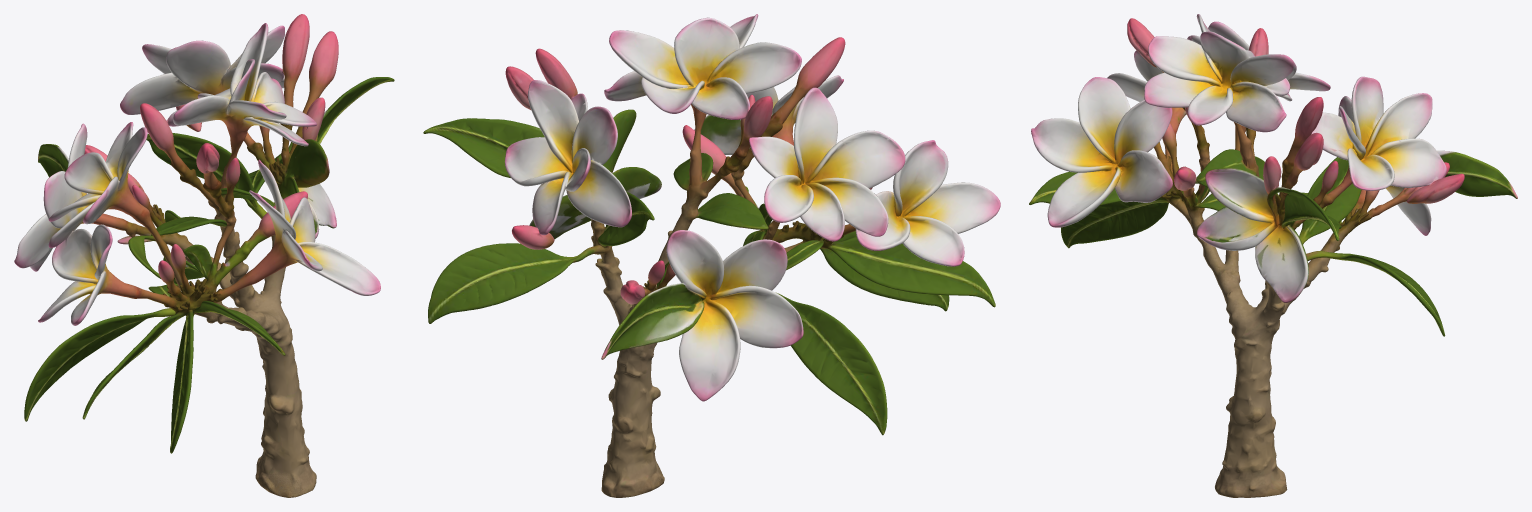
File: Plumeria.glb
The picture shows the model from 3 angles, left to right: view 1: azimuth 30°, elevation 25°; view 2: azimuth 150°, elevation 25°; view 3: azimuth 270°, elevation 25°; orthographic projection. The views are drawn at different scales.
Visible parts, largest first — view 1: tripo_node_3d0621f8-8f91-45d5-979b-938663aebad7; view 2: tripo_node_3d0621f8-8f91-45d5-979b-938663aebad7; view 3: tripo_node_3d0621f8-8f91-45d5-979b-938663aebad7.
Boxes of the visible parts, x1,y1,x2,y2 form: tripo_node_3d0621f8-8f91-45d5-979b-938663aebad7: (14,14,394,497); tripo_node_3d0621f8-8f91-45d5-979b-938663aebad7: (423,14,1000,497); tripo_node_3d0621f8-8f91-45d5-979b-938663aebad7: (1029,14,1517,497).
Bounding box in the file's own units: 0.9999 × 0.9811 × 0.9995.
1 material, 1 textured.
